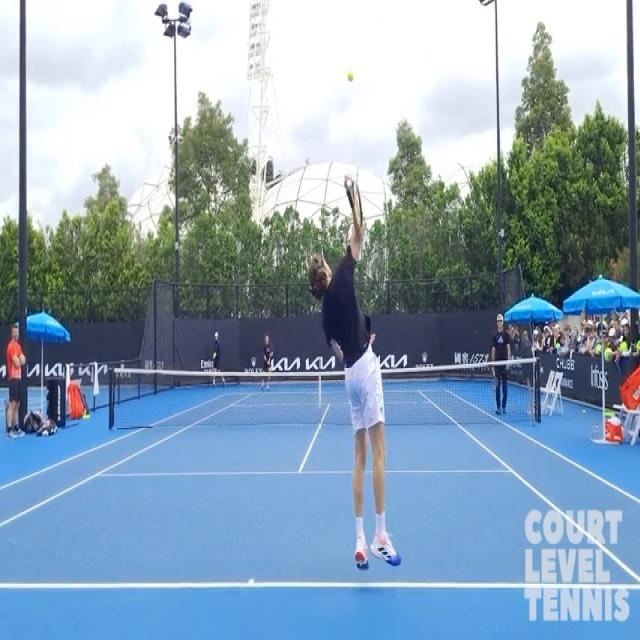serve_hit: (309, 174, 408, 590)
